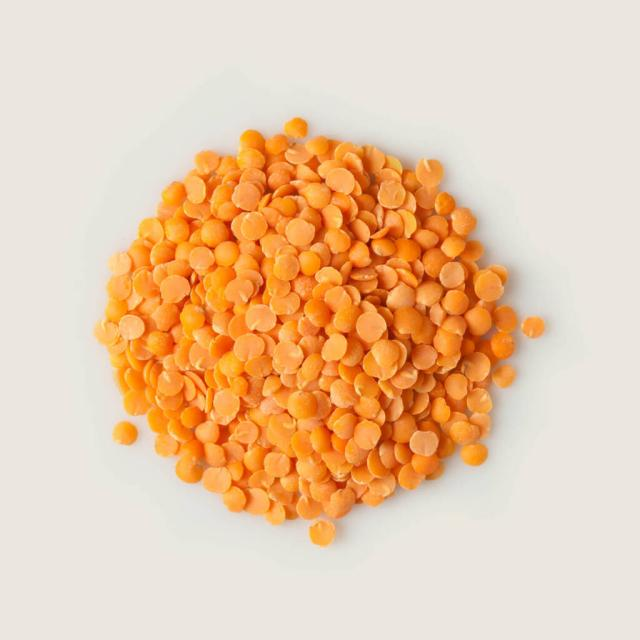lentejas: (82, 101, 557, 567)
